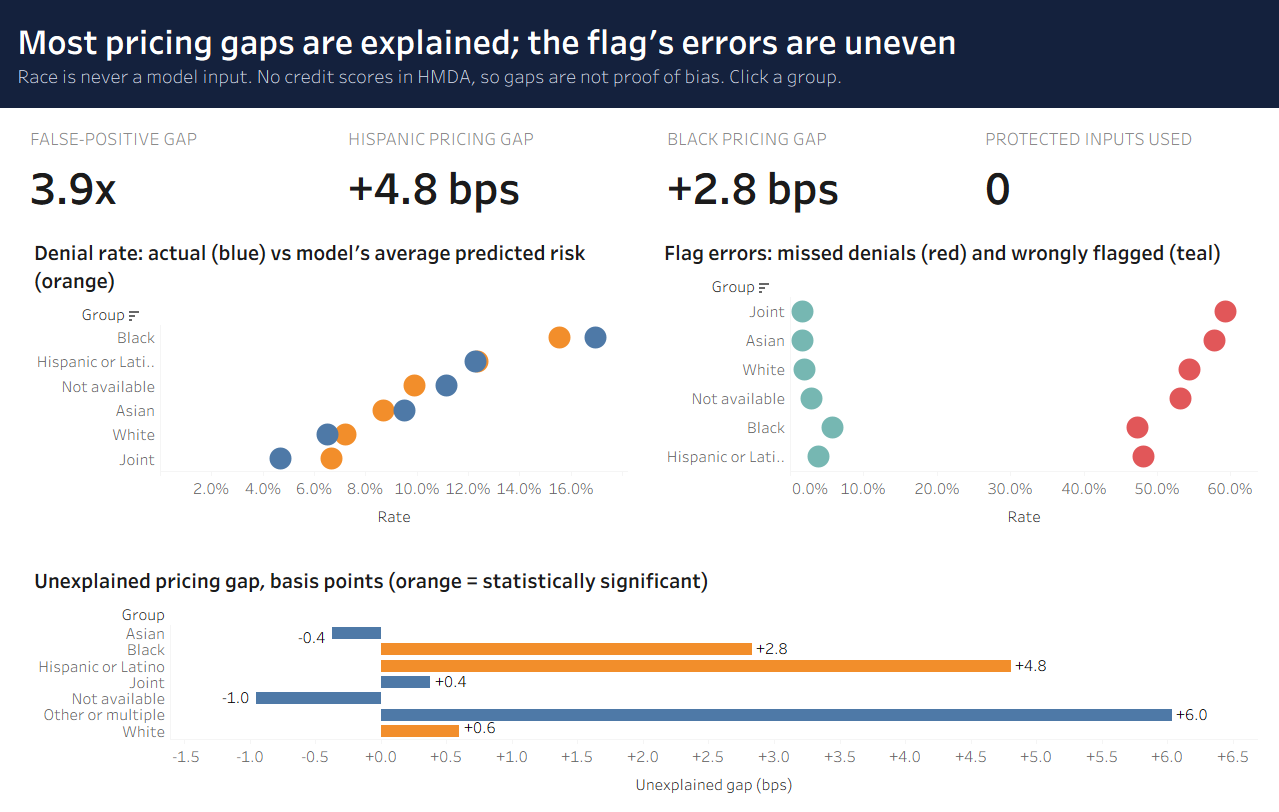

The page's visual inventory and layout, read from the dashboard file:
{"tool":"tableau","page":{"name":"5. Fairness","canvas":[1300,860],"ordinal":4},"visuals":[{"type":"text","box":[0,0,1300,107.5]},{"type":"worksheet","title":"KPI fpr_gap","mark":"Text","box":[19.5,116.1,305.5,103.2]},{"type":"worksheet","title":"KPI his_gap","mark":"Text","box":[338,116.1,305.5,103.2]},{"type":"worksheet","title":"KPI blk_gap","mark":"Text","box":[656.5,116.1,305.5,103.2]},{"type":"worksheet","title":"KPI inputs","mark":"Text","box":[975,116.1,305.5,103.2]},{"type":"worksheet","title":"Fairness: denials","mark":"Circle","rows":["group"],"cols":["value"],"box":[19.5,223.6,617.5,320.1]},{"type":"worksheet","title":"Fairness: errors","mark":"Circle","rows":["group"],"cols":["value"],"box":[650,223.6,617.5,320.1]},{"type":"worksheet","title":"Pricing gaps","mark":"Bar","rows":["race_ethnicity"],"cols":["Unexplained gap (bps)"],"box":[19.5,552.3,1248,260.4]},{"type":"text","box":[19.5,825.6,1261,34.4]}]}

Visuals, with their boxes on the page's 1300x860 design canvas (x1, y1, x2, y2). These are canvas units, not pixel positions in the 1279x812 screenshot, which may show the page scaled, cropped or inside an application window:
text: crop(0, 0, 1300, 108)
"KPI fpr_gap" worksheet (Text marks): crop(20, 116, 325, 219)
"KPI his_gap" worksheet (Text marks): crop(338, 116, 644, 219)
"KPI blk_gap" worksheet (Text marks): crop(656, 116, 962, 219)
"KPI inputs" worksheet (Text marks): crop(975, 116, 1280, 219)
"Fairness: denials" worksheet (Circle marks): crop(20, 224, 637, 544)
"Fairness: errors" worksheet (Circle marks): crop(650, 224, 1268, 544)
"Pricing gaps" worksheet (Bar marks): crop(20, 552, 1268, 813)
text: crop(20, 826, 1280, 860)
